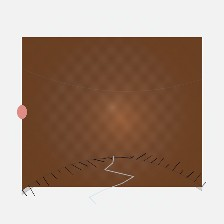foreign_body_visible: (96, 98, 122, 119)
